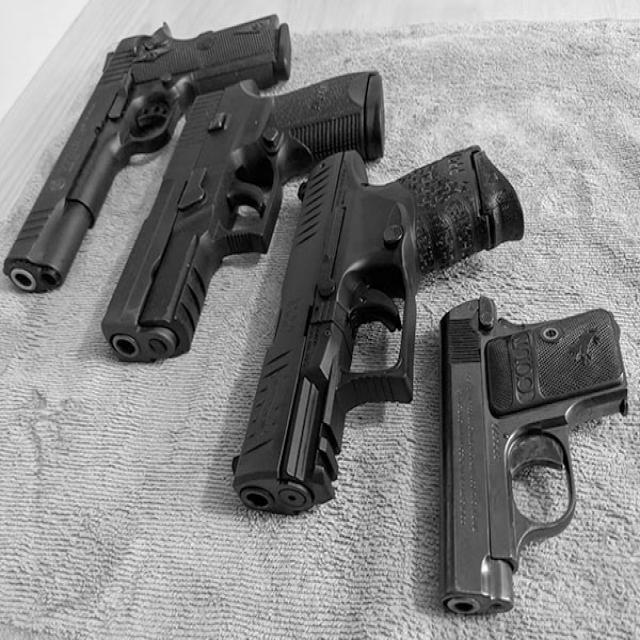Hand-Gun: (230, 126, 527, 514), (105, 37, 406, 357), (10, 20, 277, 286), (416, 304, 633, 625)
